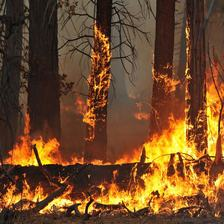fire: (11, 109, 220, 213), (151, 14, 205, 102), (81, 30, 124, 106)
